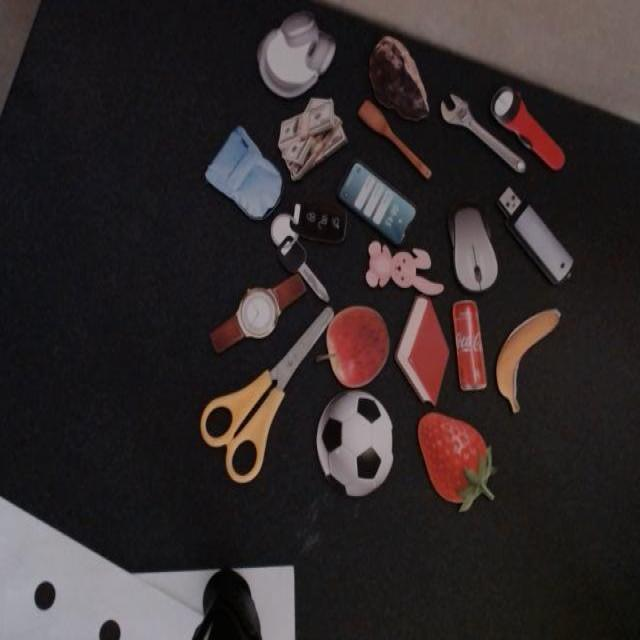Other Objects: (199, 305, 334, 483), (205, 252, 310, 372), (260, 183, 350, 302), (249, 0, 341, 115), (202, 122, 289, 236), (483, 288, 560, 414), (492, 181, 576, 290), (485, 77, 567, 187), (436, 87, 532, 180), (316, 389, 393, 497), (360, 25, 433, 137), (270, 87, 348, 181), (356, 96, 432, 190), (335, 159, 417, 245), (315, 304, 389, 388), (364, 240, 444, 296), (449, 205, 498, 294), (451, 299, 487, 391)
